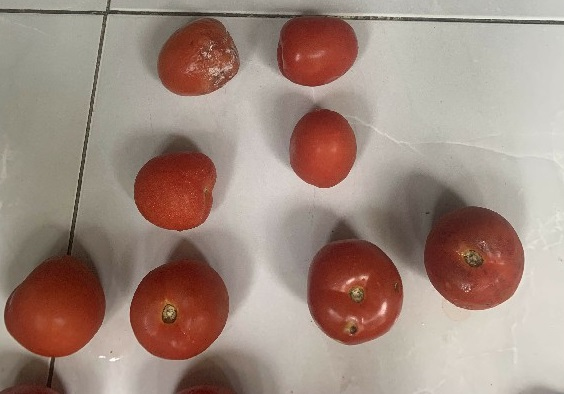NG: (301, 231, 405, 351), (152, 10, 246, 97)
OK: (121, 256, 239, 364), (0, 252, 112, 361), (419, 203, 527, 314), (130, 147, 224, 235), (266, 13, 366, 89), (285, 105, 362, 195)
